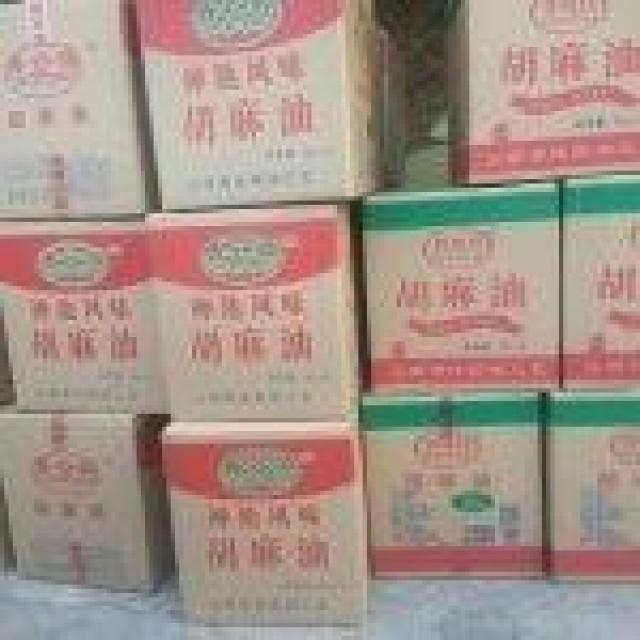box: (131, 0, 413, 208), (160, 416, 380, 640), (361, 144, 559, 392), (145, 204, 368, 424), (360, 395, 556, 587), (0, 0, 158, 229), (443, 0, 640, 183), (0, 228, 185, 419), (0, 394, 176, 591), (554, 166, 640, 396), (545, 387, 640, 582)
